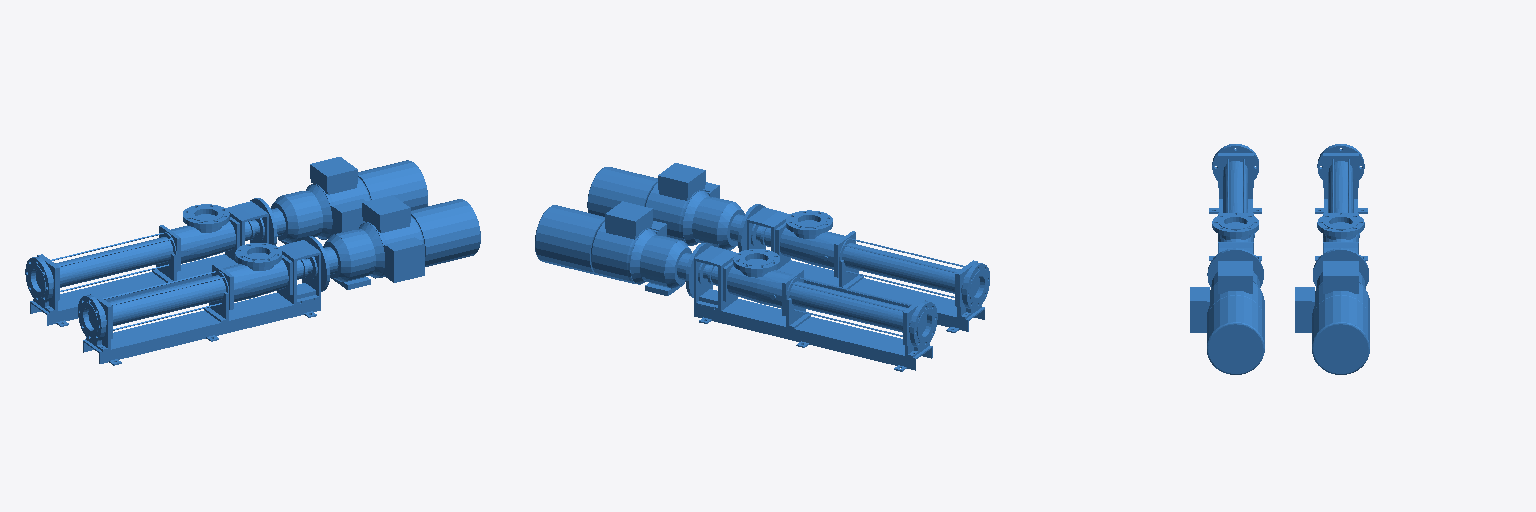
The picture shows the model from 3 angles: view 1: azimuth 30°, elevation 25°; view 2: azimuth 150°, elevation 25°; view 3: azimuth 270°, elevation 25°; orthographic projection.
Parts seen in each view (by area): view 1: MBRjinshuibeng; view 2: MBRjinshuibeng; view 3: MBRjinshuibeng.
Part boxes in pixels (x1,y1,x2,y2): MBRjinshuibeng: (25,157,480,365); MBRjinshuibeng: (535,163,989,371); MBRjinshuibeng: (1190,144,1369,374).
Bounding box in the file's own units: 760 × 156 × 314.
Materials: 1 (1 with a texture image).